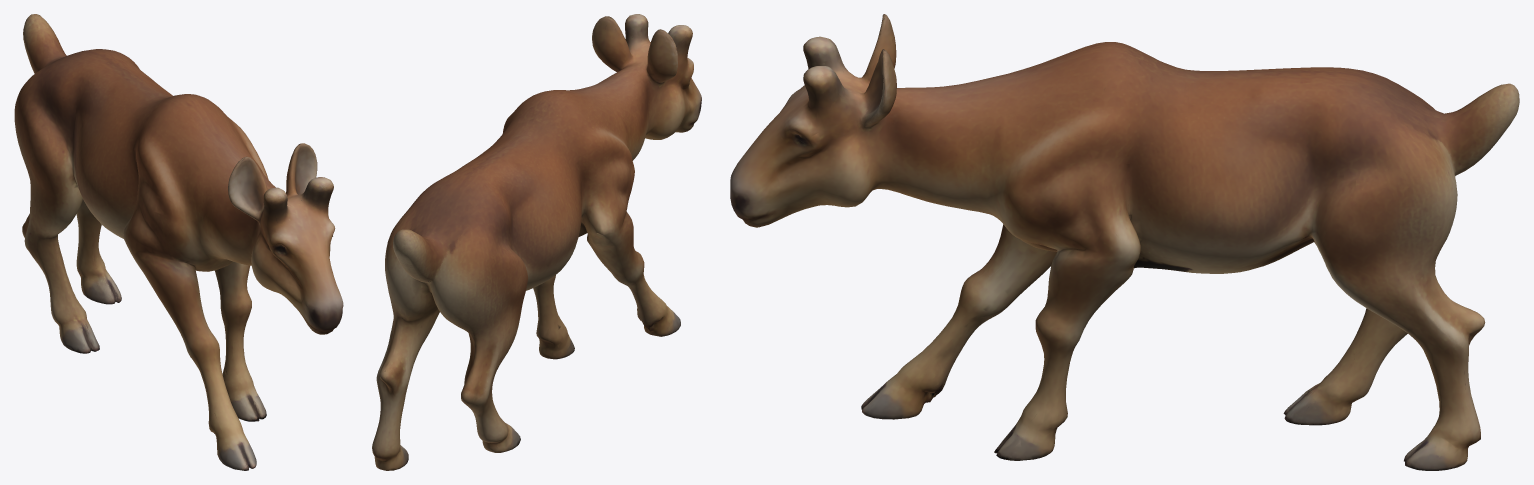
The picture shows the model from 3 angles, left to right: view 1: azimuth 30°, elevation 25°; view 2: azimuth 150°, elevation 25°; view 3: azimuth 270°, elevation 25°; orthographic projection. The views are drawn at different scales.
Parts seen in each view (by area): view 1: world; view 2: world; view 3: world.
Boxes of the visible parts, x1,y1,x2,y2 form: world: [14, 14, 343, 470]; world: [372, 14, 701, 470]; world: [730, 14, 1519, 470].
Bounding box in the file's own units: 0.2644 × 0.6222 × 1.1.
Materials: 1 (1 with a texture image).
